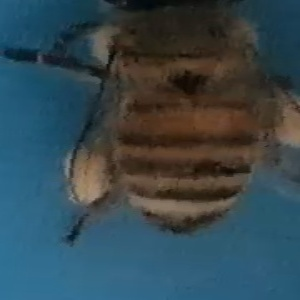bee: (52, 1, 297, 250)
